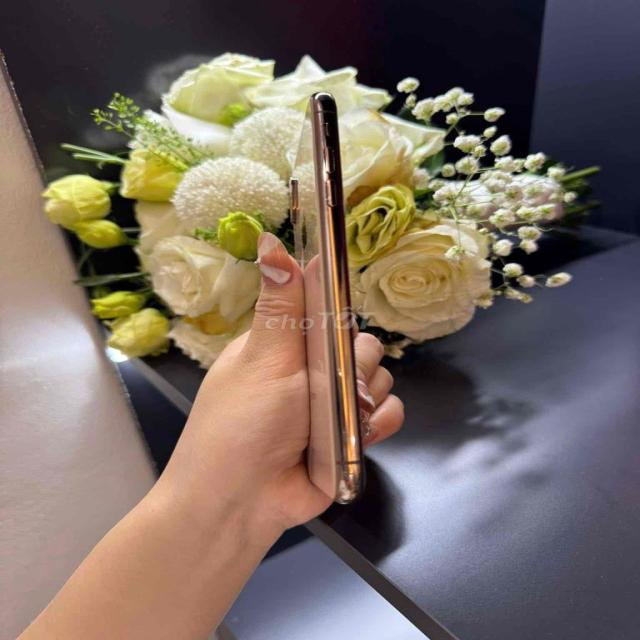gen_x_xs: (290, 91, 363, 503)
